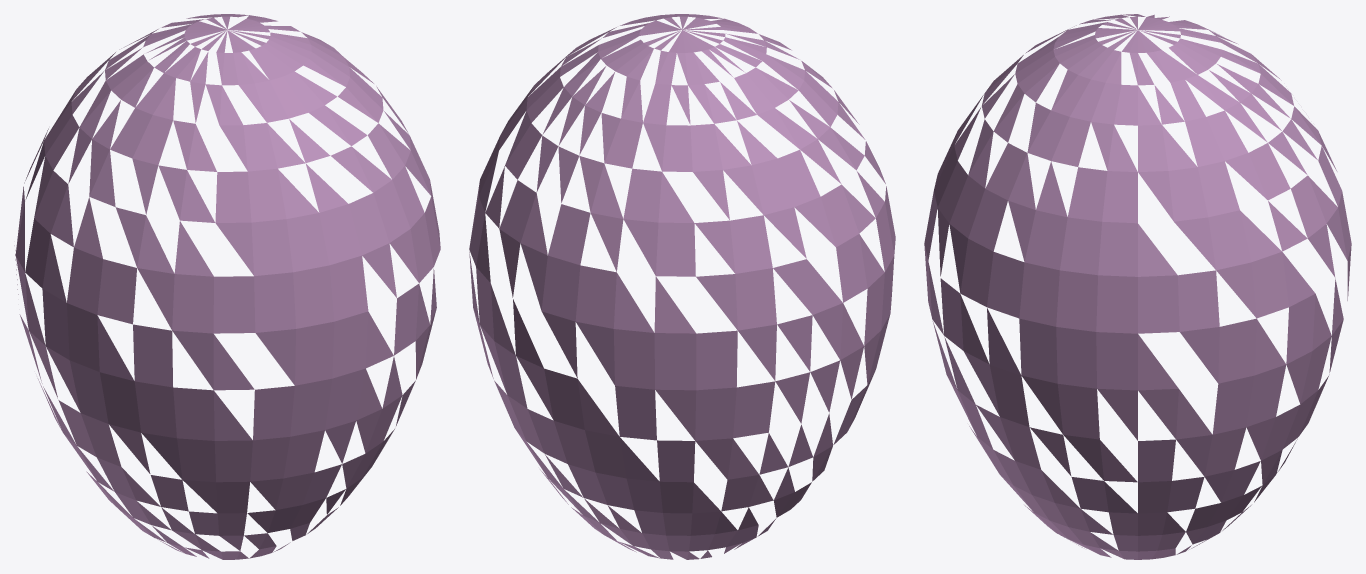
Rendered from food_egg_chicken_b10.glb.
The picture shows the model from 3 angles, left to right: view 1: azimuth 30°, elevation 25°; view 2: azimuth 150°, elevation 25°; view 3: azimuth 270°, elevation 25°; orthographic projection.
Visible parts, largest first — view 1: geometry_0; view 2: geometry_0; view 3: geometry_0.
Boxes of the visible parts, <box> form: geometry_0: <box>14,14,440,559</box>; geometry_0: <box>469,14,895,559</box>; geometry_0: <box>924,14,1351,559</box>.
Bounding box in the file's own units: 0.3574 × 0.48 × 0.3574.
